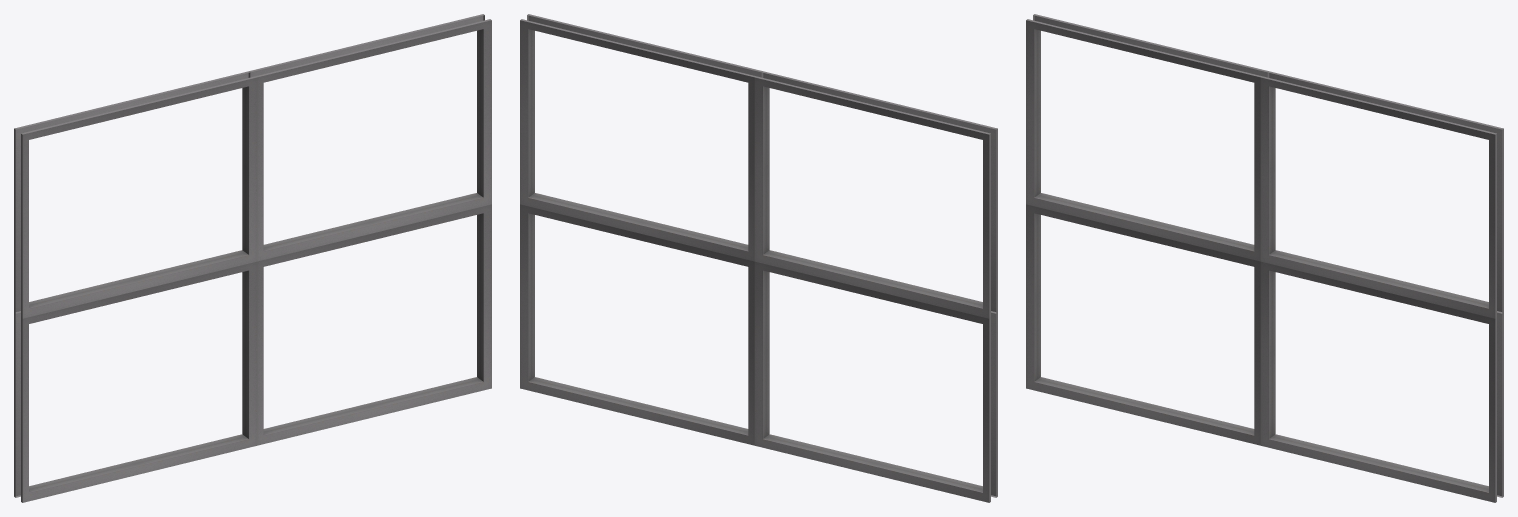
Rendered from props_2fort_window004d_cluster01.glb.
3 views of the same model, side by side, from view 1: azimuth 30°, elevation 25°; view 2: azimuth 150°, elevation 25°; view 3: azimuth 330°, elevation 25° (orthographic).
Visible parts, largest first — view 1: models/props_2fort/window004d_cluster01; view 2: models/props_2fort/window004d_cluster01; view 3: models/props_2fort/window004d_cluster01.
Part boxes in pixels (x1=…): models/props_2fort/window004d_cluster01: x1=14, y1=14, x2=491, y2=502; models/props_2fort/window004d_cluster01: x1=520, y1=14, x2=997, y2=502; models/props_2fort/window004d_cluster01: x1=1026, y1=14, x2=1503, y2=502.
Size of the model in its own units: 256 by 192 by 8.
1 material, 1 textured.
